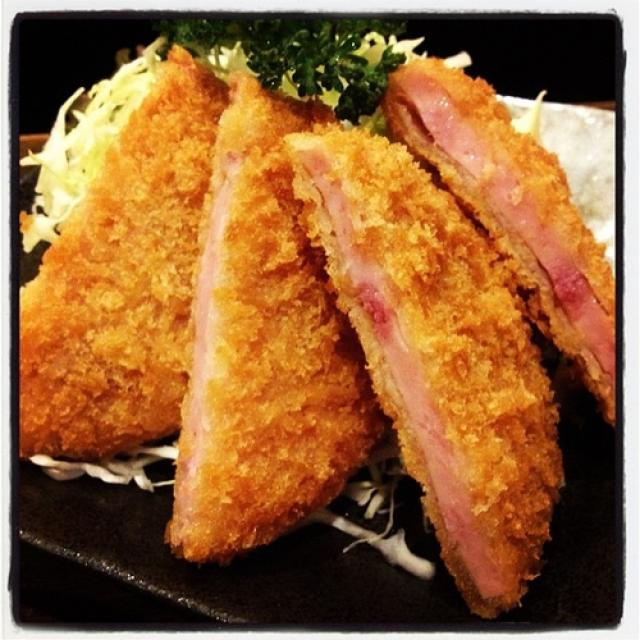炸货点心: (29, 58, 617, 599)
